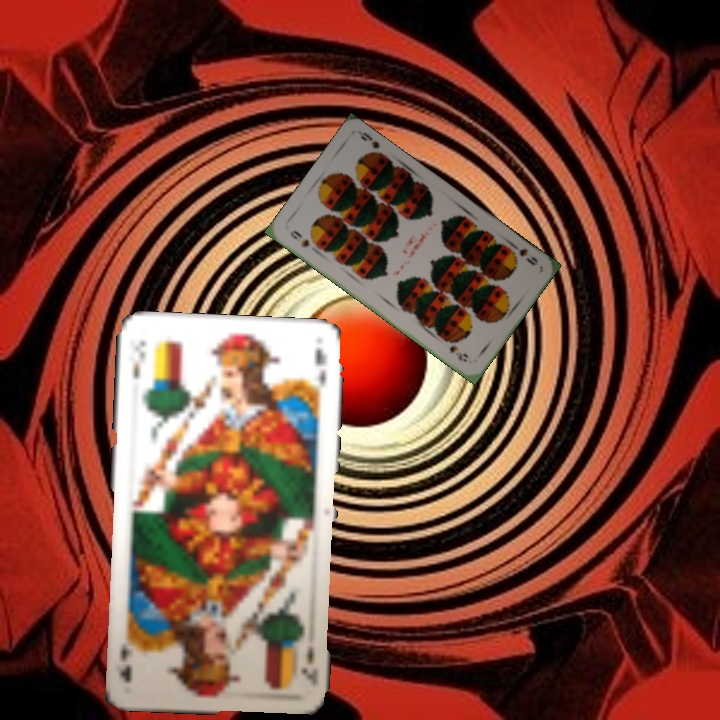EK: (296, 641, 317, 688), (128, 336, 149, 382)
S9: (507, 239, 541, 268), (286, 226, 312, 250)
